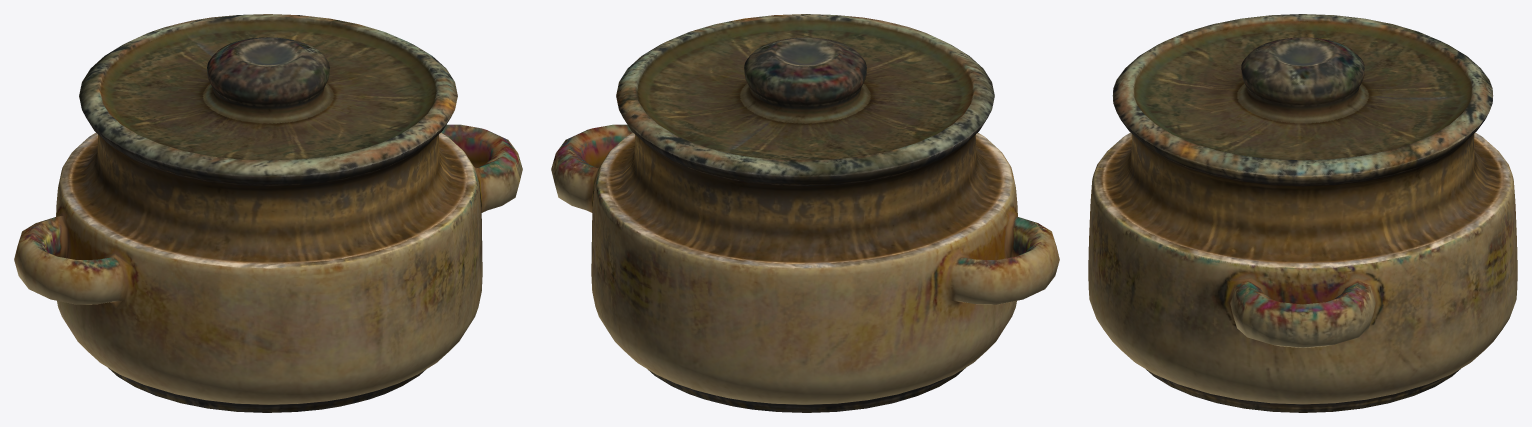
File: StoragePot.fbx
The picture shows the model from 3 angles, left to right: view 1: azimuth 30°, elevation 25°; view 2: azimuth 150°, elevation 25°; view 3: azimuth 270°, elevation 25°; orthographic projection.
Visible parts, largest first — view 1: StoragePot; view 2: StoragePot; view 3: StoragePot.
Part boxes in pixels (x1=…): StoragePot: x1=14, y1=14, x2=522, y2=412; StoragePot: x1=551, y1=14, x2=1059, y2=412; StoragePot: x1=1088, y1=14, x2=1517, y2=412.
Bounding box in the file's own units: 65.63 × 37.17 × 50.18.
1 material, 1 textured.
